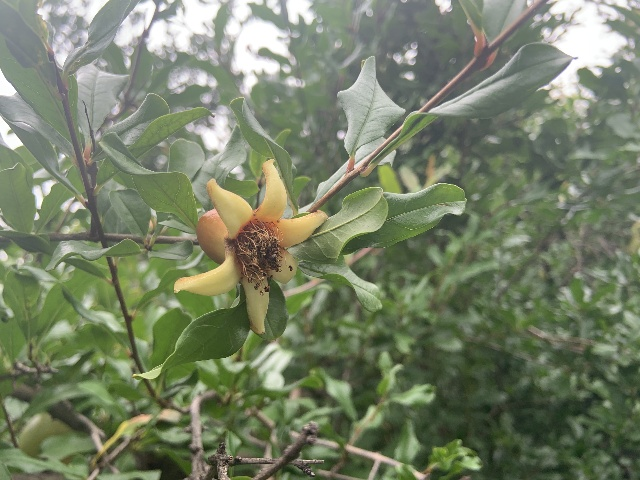early-fruit: (172, 157, 326, 335)
